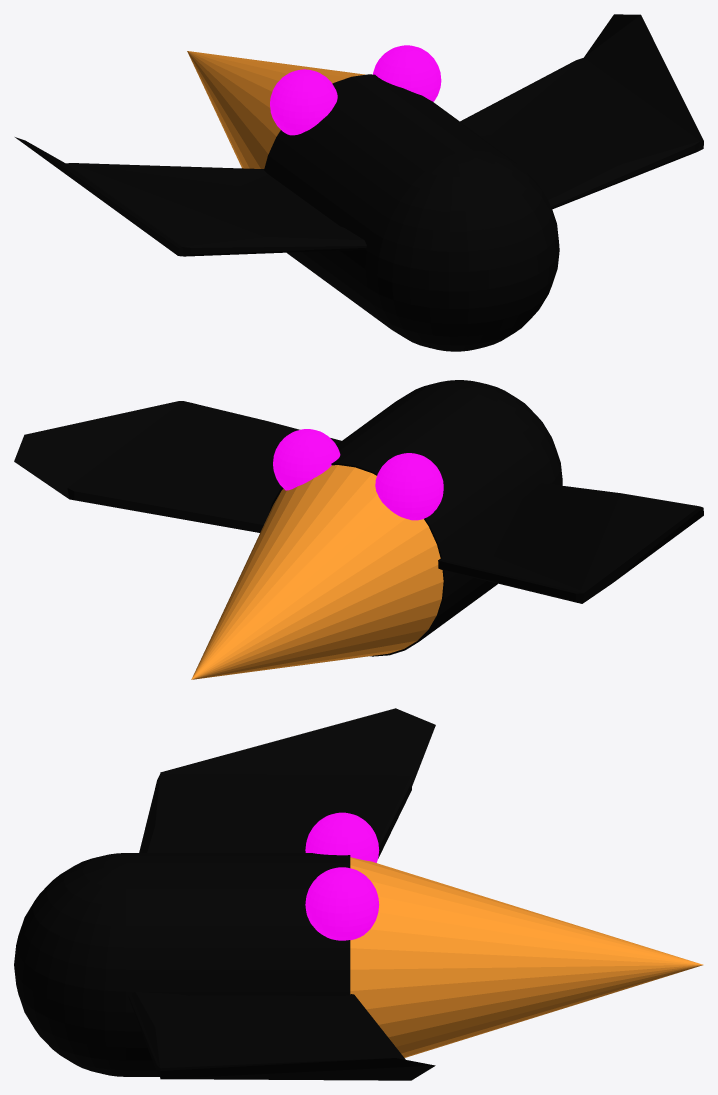
Rendered from Vogel 1.fbx.
The picture shows the model from 3 angles, top to bottom: view 1: azimuth 30°, elevation 25°; view 2: azimuth 150°, elevation 25°; view 3: azimuth 270°, elevation 25°; orthographic projection. The views are drawn at different scales.
Parts seen in each view (by area): view 1: Cube, Sphere, Cylinder, Cone, Sphere.002, Sphere.001; view 2: Cube, Cone, Cylinder, Sphere.002, Sphere, Sphere.001; view 3: Cube, Cone, Cylinder, Sphere, Sphere.001, Sphere.002.
Part boxes in pixels (bbox=[...]): Cube: bbox=[15, 14, 703, 256]; Sphere: bbox=[365, 150, 559, 351]; Cylinder: bbox=[264, 74, 517, 328]; Cone: bbox=[187, 51, 364, 168]; Sphere.002: bbox=[270, 69, 337, 135]; Sphere.001: bbox=[373, 45, 441, 101]; Cube: bbox=[14, 401, 703, 603]; Cone: bbox=[191, 465, 443, 679]; Cylinder: bbox=[268, 387, 546, 656]; Sphere.002: bbox=[375, 453, 443, 520]; Sphere: bbox=[410, 380, 562, 485]; Sphere.001: bbox=[273, 429, 340, 490]; Cube: bbox=[128, 708, 435, 1080]; Cone: bbox=[350, 857, 703, 1057]; Cylinder: bbox=[126, 853, 350, 1076]; Sphere: bbox=[14, 853, 125, 1076]; Sphere.001: bbox=[305, 867, 379, 940]; Sphere.002: bbox=[305, 812, 379, 862].
Bounding box in the file's own units: 682 × 220 × 615.
